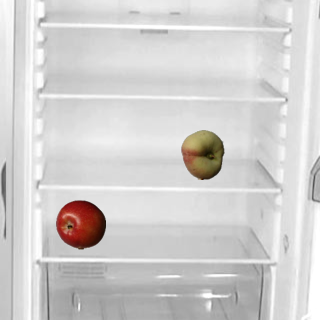Apple Braeburn: (55, 199, 105, 249)
Peach Flat: (177, 129, 227, 179)
